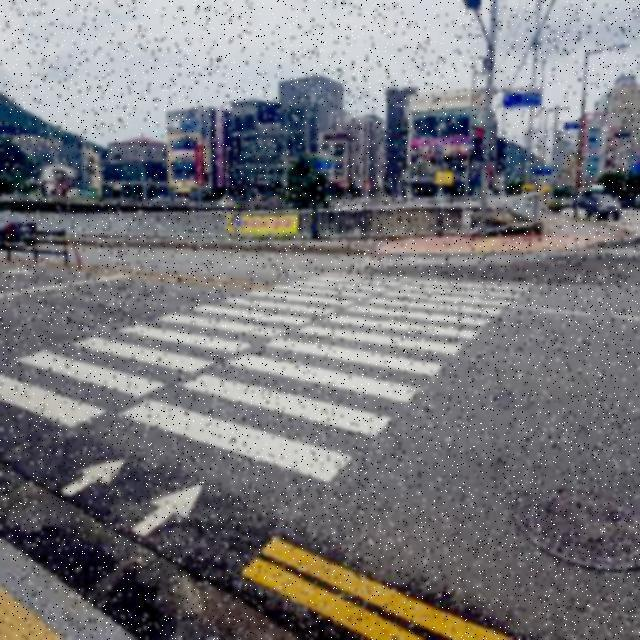crosswalk: (116, 276, 538, 489), (1, 267, 418, 430)
